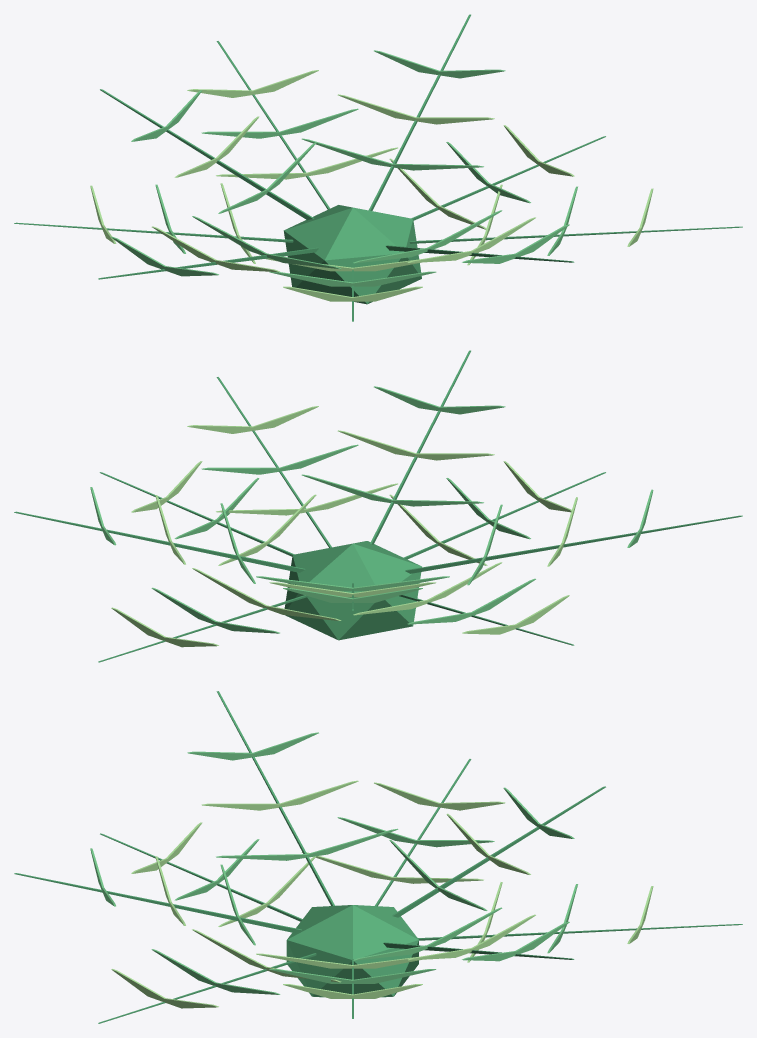
The model's file is Fern_Clump.glb.
3 views of the same model, one above another, from view 1: azimuth 30°, elevation 25°; view 2: azimuth 150°, elevation 25°; view 3: azimuth 270°, elevation 25° (orthographic).
Parts seen in each view (by area): view 1: FTF_Nature_Fern_Clump_StaticMesh; view 2: FTF_Nature_Fern_Clump_StaticMesh; view 3: FTF_Nature_Fern_Clump_StaticMesh.
Part boxes in pixels (x1=…): FTF_Nature_Fern_Clump_StaticMesh: x1=14, y1=14, x2=742, y2=321; FTF_Nature_Fern_Clump_StaticMesh: x1=14, y1=350, x2=742, y2=662; FTF_Nature_Fern_Clump_StaticMesh: x1=14, y1=691, x2=742, y2=1023.
Size of the model in its own units: 1.3 by 0.32 by 1.4.
